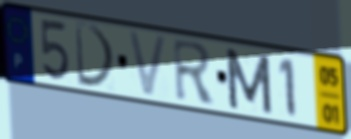1: (277, 58, 300, 120)
5: (39, 16, 72, 83)
D: (73, 20, 119, 90)
M: (223, 46, 275, 118)
R: (171, 36, 218, 106)
V: (125, 29, 170, 101)
